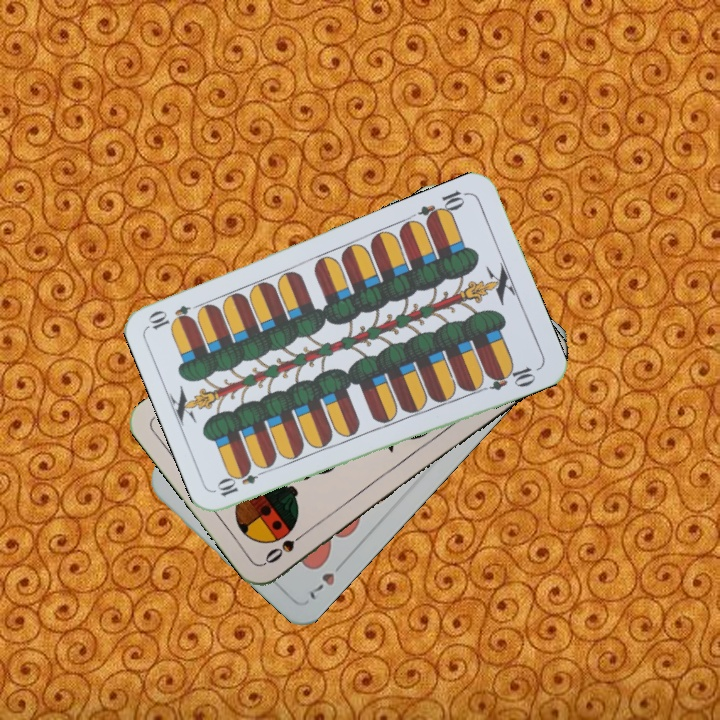E10: (415, 186, 471, 227), (213, 463, 271, 500)
H7: (305, 568, 338, 603)
SO: (260, 525, 312, 567)
